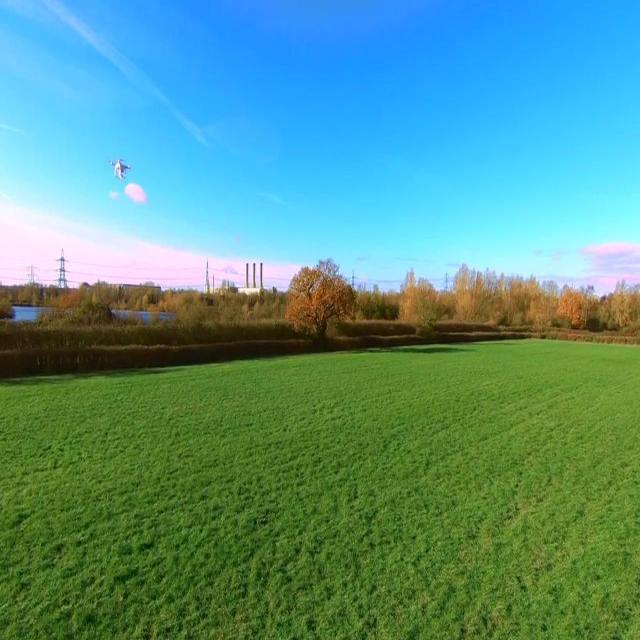drone: (105, 154, 134, 184)
